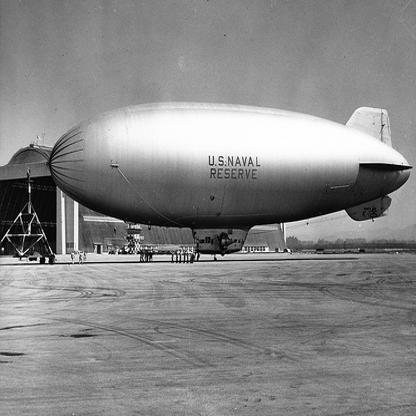Airship: (44, 105, 406, 258)
